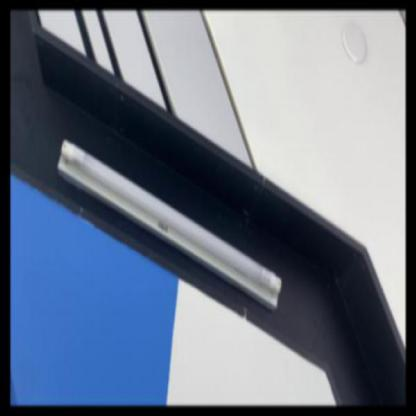light_off: (52, 123, 292, 346)
